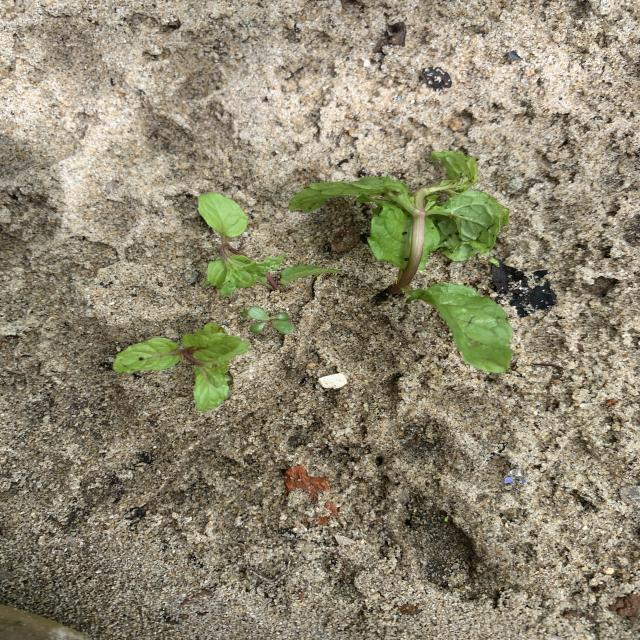crop: (289, 151, 513, 373), (198, 193, 340, 297), (114, 323, 249, 411)
weed: (238, 306, 295, 336)
